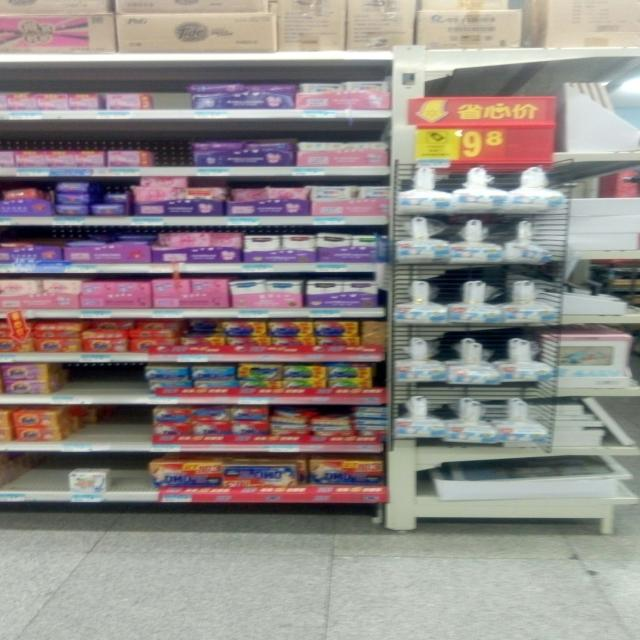empty: (8, 452, 75, 494), (51, 362, 147, 390), (140, 132, 201, 169), (107, 455, 157, 493), (153, 68, 194, 114)
